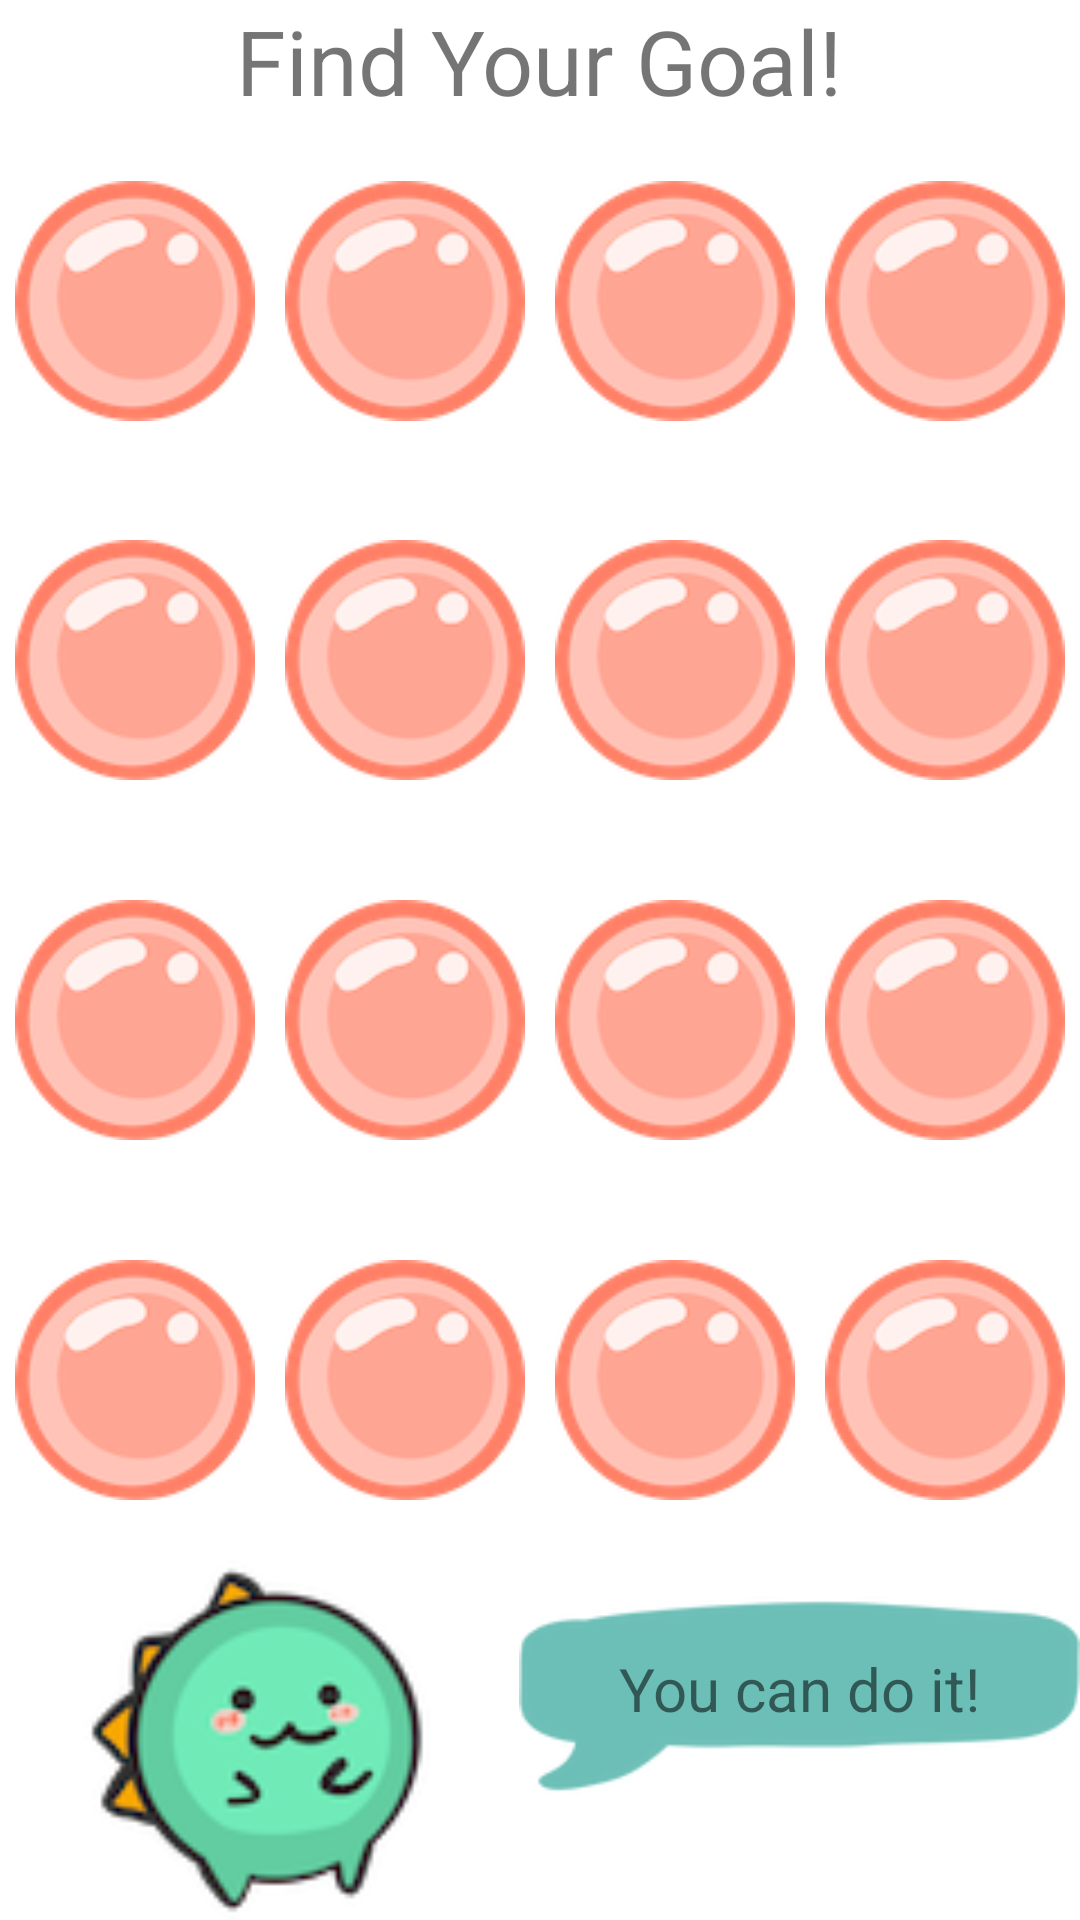

Icons on this 1080*1920 Android screen, each with the point to tap as (x=x, y=y):
baby dinosaur: (x=257, y=1740)
